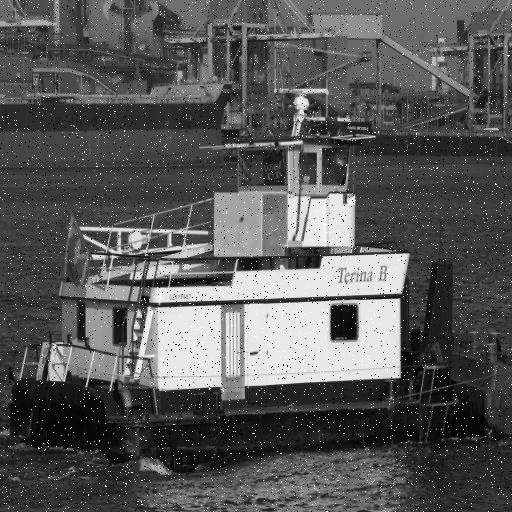tugboat: (2, 85, 466, 481)
